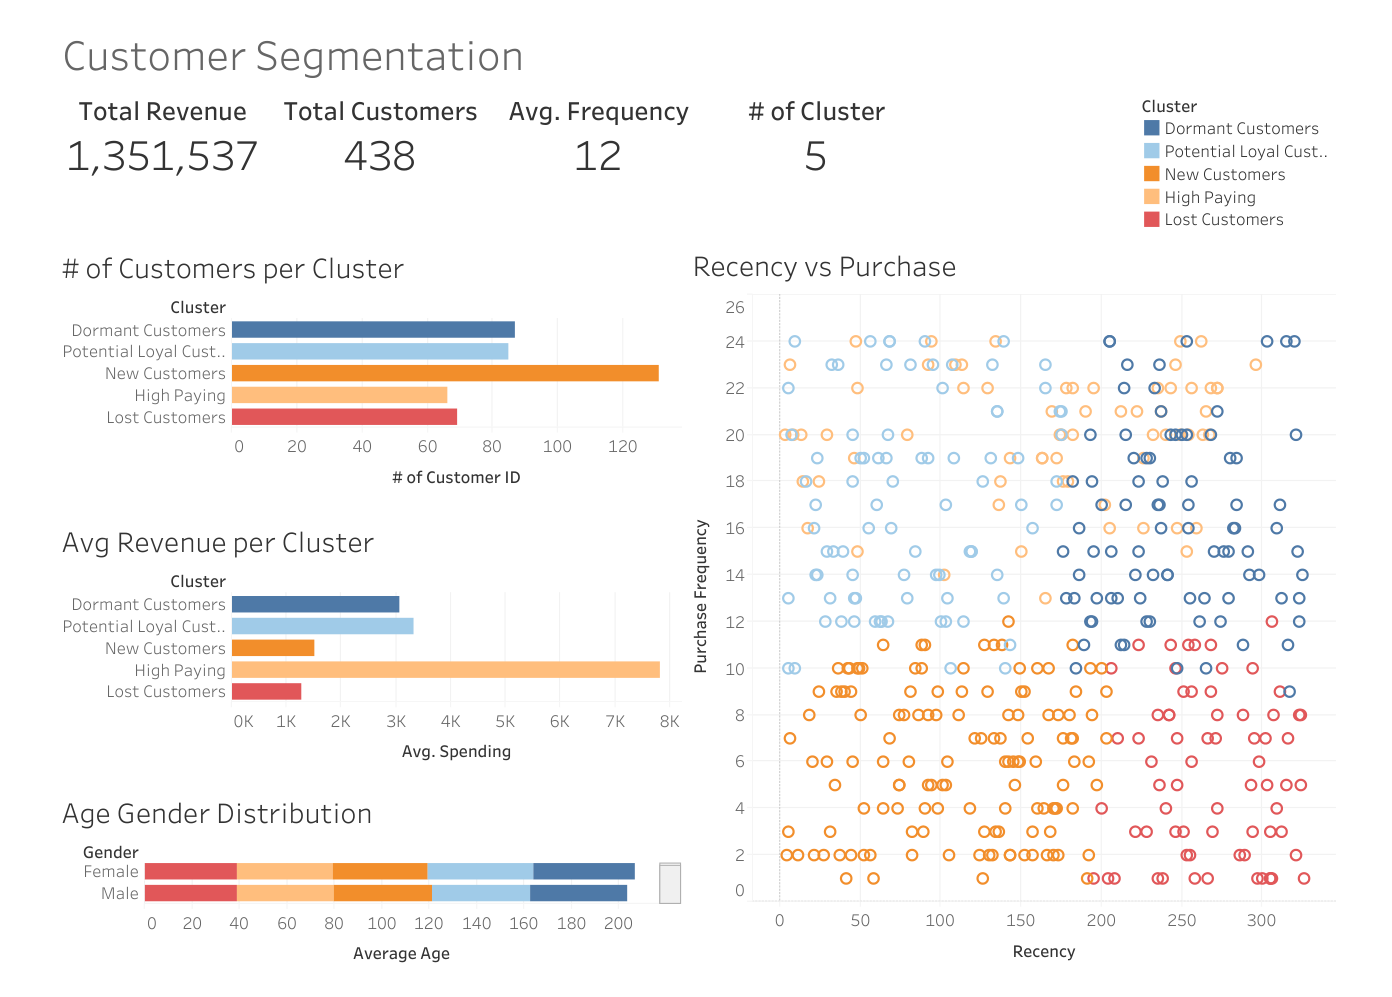

This screenshot's page, from the dashboard's own definition file:
{"tool":"tableau","page":{"name":"Dashboard 1","canvas":[1200,900],"ordinal":0},"visuals":[{"type":"text","box":[9,6,1184,60]},{"type":"legend","title":"Recency vs Purchase","param":"[federated.0n5pjz11lmdwjy13pnswl06w431s].[none:Cluster:ok]","box":[966,29,217,167]},{"type":"worksheet","title":"KPIs","mark":"Automatic","box":[9,81,809,108]},{"type":"worksheet","title":"# of Customers per Cluster","mark":"Automatic","rows":["Cluster"],"cols":["CustomerID"],"box":[8,205,581,252]},{"type":"worksheet","title":"Recency vs Purchase","mark":"Automatic","rows":["PurchaseFrequency"],"cols":["Recency"],"box":[591,207,594,670]},{"type":"worksheet","title":"Avg Revenue per Cluster","mark":"Automatic","rows":["Cluster"],"cols":["TotalSpend"],"box":[8,457,581,248]},{"type":"worksheet","title":"Age Gender Distribution","mark":"Automatic","rows":["Gender"],"cols":["Age"],"box":[8,705,581,178]}]}

Visuals, with their boxes on the page's 1200x900 design canvas (x1, y1, x2, y2). These are canvas units, not pixel positions in the 1392x997 screenshot, which may show the page scaled, cropped or inside an application window:
text: 9, 6, 1193, 66
"Recency vs Purchase" legend: 966, 29, 1183, 196
"KPIs" worksheet: 9, 81, 818, 189
"# of Customers per Cluster" worksheet: 8, 205, 589, 457
"Recency vs Purchase" worksheet: 591, 207, 1185, 877
"Avg Revenue per Cluster" worksheet: 8, 457, 589, 705
"Age Gender Distribution" worksheet: 8, 705, 589, 883
